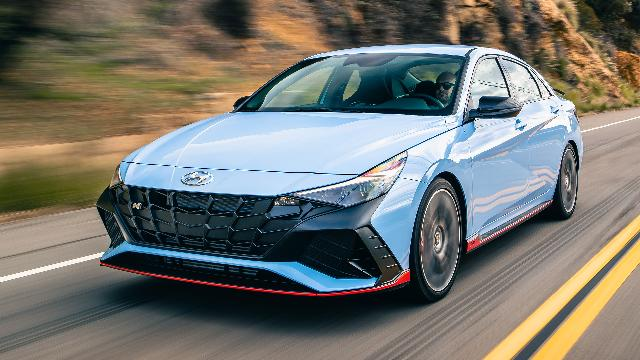hyundai: (96, 44, 584, 304)
